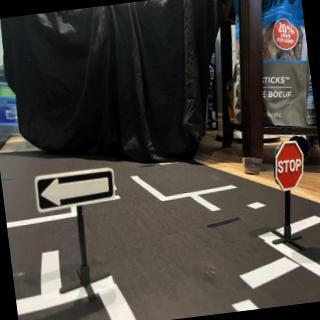sign_oneway_left: (33, 165, 120, 215)
sign_stop: (273, 142, 309, 192)
